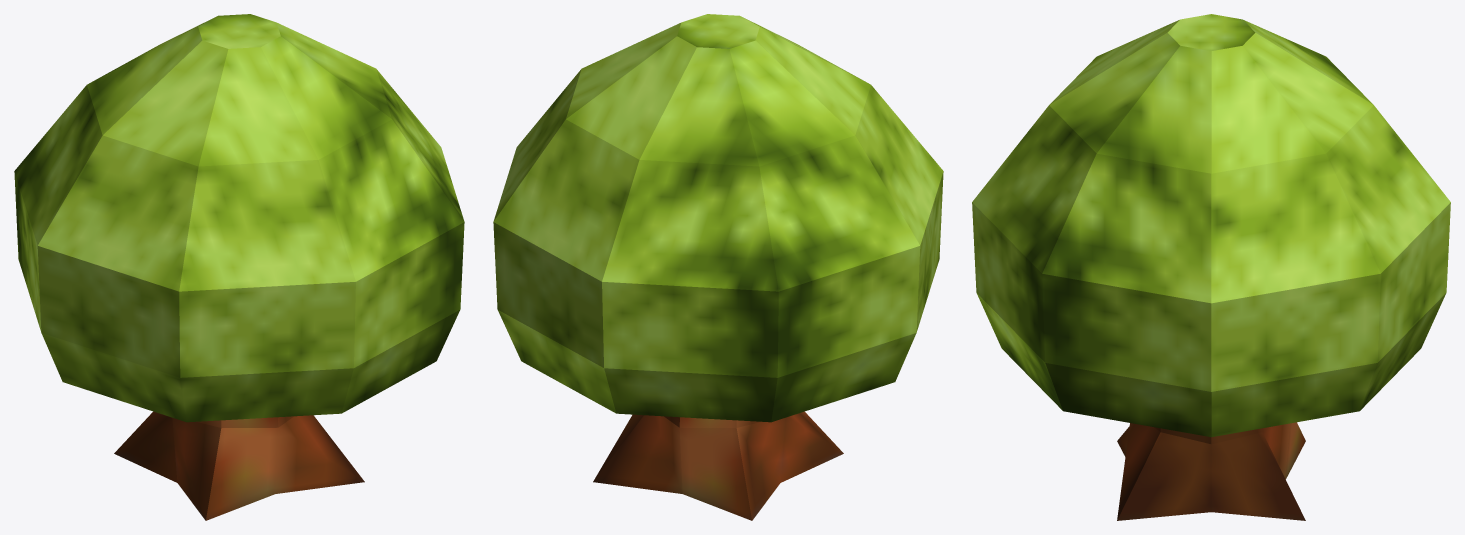
Rendered from Poly_World_Map_Big_Tree_01.obj.
3 views of the same model, side by side, from view 1: azimuth 30°, elevation 25°; view 2: azimuth 150°, elevation 25°; view 3: azimuth 270°, elevation 25° (orthographic). The views are drawn at different scales.
Visible parts, largest first — view 1: Grid.001, Grid.002; view 2: Grid.001, Grid.002; view 3: Grid.001, Grid.002.
Boxes of the visible parts, x1,y1,x2,y2 form: Grid.001: [14, 14, 464, 422]; Grid.002: [114, 411, 364, 520]; Grid.001: [493, 14, 943, 422]; Grid.002: [593, 411, 843, 520]; Grid.001: [972, 14, 1450, 437]; Grid.002: [1117, 422, 1305, 520].
Size of the model in its own units: 0.8084 by 0.8354 by 0.8084.
Materials: 1 (1 with a texture image).
